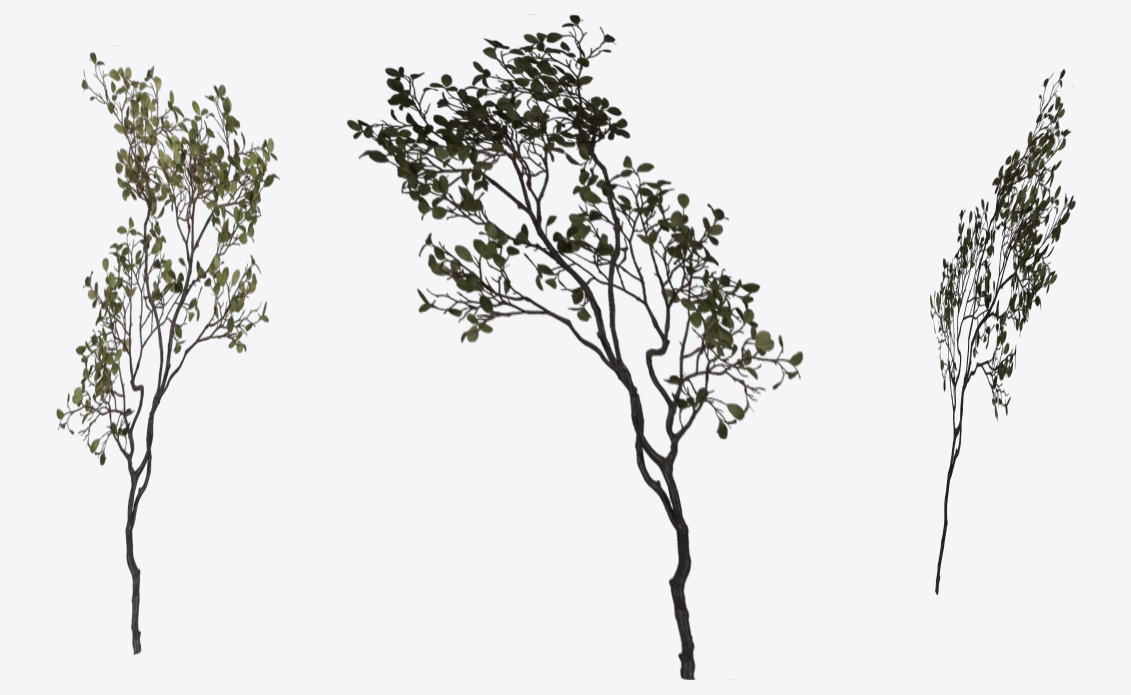
File: dal.glb
3 views of the same model, side by side, from view 1: azimuth 30°, elevation 25°; view 2: azimuth 150°, elevation 25°; view 3: azimuth 270°, elevation 25° (orthographic). The views are drawn at different scales.
Visible parts, largest first — view 1: Plane.017_Material.022_0; view 2: Plane.017_Material.022_0; view 3: Plane.017_Material.022_0.
Part boxes in pixels (<box>): Plane.017_Material.022_0: <box>56,46,279,654</box>; Plane.017_Material.022_0: <box>347,15,803,679</box>; Plane.017_Material.022_0: <box>930,69,1075,595</box>.
Bounding box in the file's own units: 1.03 × 1.78 × 0.62.
Materials: 1 (1 with a texture image).
